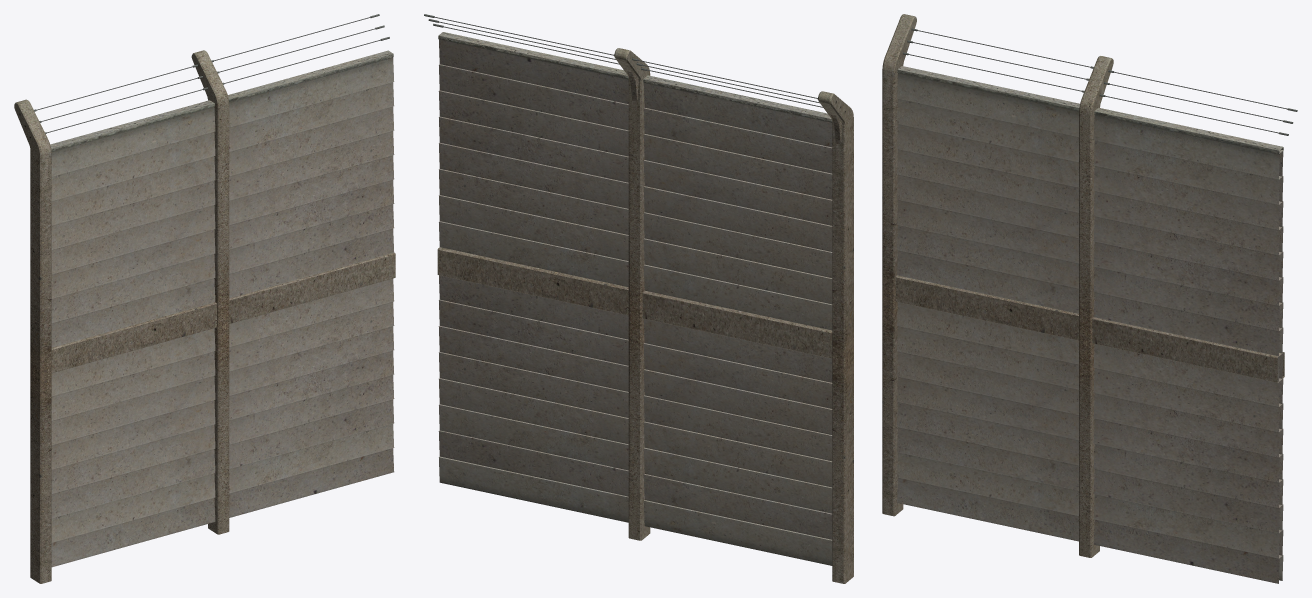
File: object_29.001_lev2.glb
3 views of the same model, side by side, from view 1: azimuth 30°, elevation 25°; view 2: azimuth 150°, elevation 25°; view 3: azimuth 330°, elevation 25° (orthographic). The views are drawn at different scales.
Parts seen in each view (by area): view 1: object_29.001_lev2; view 2: object_29.001_lev2; view 3: object_29.001_lev2.
Part boxes in pixels (x1,y1,x2,y2): object_29.001_lev2: (14, 14, 395, 583); object_29.001_lev2: (424, 14, 853, 583); object_29.001_lev2: (882, 14, 1297, 583).
Size of the model in its own units: 6.82 by 8.14 by 1.
1 material, 1 textured.
